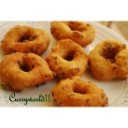vada: (2, 53, 50, 88), (55, 77, 109, 106), (1, 23, 50, 54), (91, 40, 128, 77), (49, 40, 88, 75), (50, 20, 96, 43)
